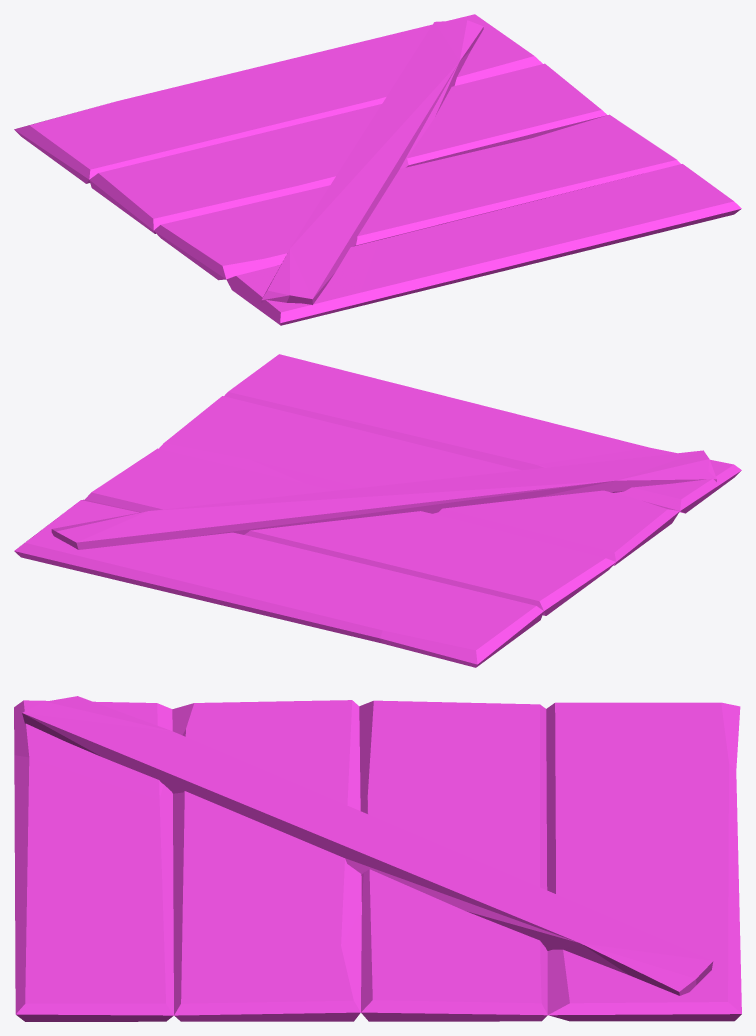
The model's file is SM_Box_Top_Fantasy.fbx.
The picture shows the model from 3 angles, top to bottom: view 1: azimuth 30°, elevation 25°; view 2: azimuth 150°, elevation 25°; view 3: azimuth 270°, elevation 25°; orthographic projection. The views are drawn at different scales.
Visible parts, largest first — view 1: SM_Box_Top_Fantasy; view 2: SM_Box_Top_Fantasy; view 3: SM_Box_Top_Fantasy.
Part boxes in pixels (x1=…): SM_Box_Top_Fantasy: x1=14, y1=14, x2=741, y2=325; SM_Box_Top_Fantasy: x1=14, y1=354, x2=741, y2=667; SM_Box_Top_Fantasy: x1=14, y1=696, x2=741, y2=1021.
Bounding box in the file's own units: 0.9596 × 0.0441 × 0.953.
